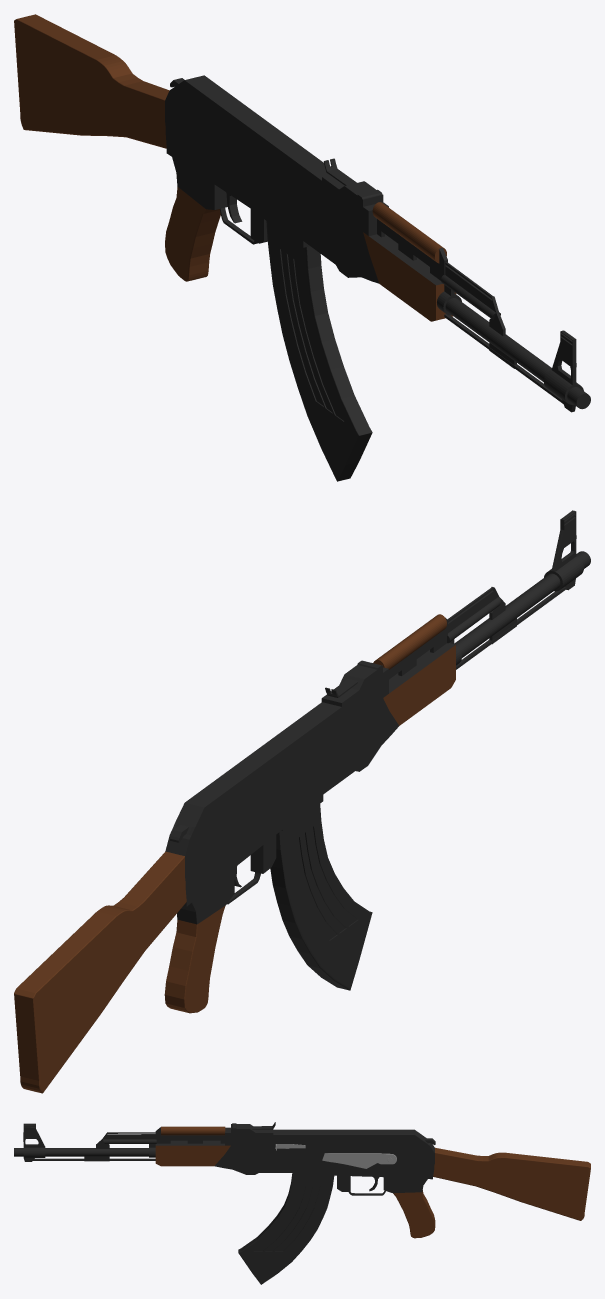
3 views of the same model, one above another, from view 1: azimuth 30°, elevation 25°; view 2: azimuth 150°, elevation 25°; view 3: azimuth 270°, elevation 25° (orthographic). The views are drawn at different scales.
Parts seen in each view (by area): view 1: Cylinder, Cylinder.002, Magazin, Cylinder.001, Cylinder.004, Cylinder.003; view 2: Cylinder, Cylinder.002, Magazin, Cylinder.001, Cylinder.004, Cylinder.003; view 3: Cylinder, Cylinder.002, Magazin, Cylinder.004, Cylinder.001, Cylinder.005, Cylinder.003.
Boxes of the visible parts, bbox=[...] form: Cylinder: bbox=[165, 75, 590, 412]; Cylinder.002: bbox=[14, 14, 169, 148]; Magazin: bbox=[266, 221, 372, 481]; Cylinder.001: bbox=[165, 187, 220, 281]; Cylinder.004: bbox=[363, 232, 456, 321]; Cylinder.003: bbox=[372, 202, 446, 263]; Cylinder: bbox=[165, 510, 590, 924]; Cylinder.002: bbox=[14, 851, 186, 1093]; Magazin: bbox=[270, 804, 372, 990]; Cylinder.001: bbox=[164, 905, 225, 1013]; Cylinder.004: bbox=[383, 645, 455, 725]; Cylinder.003: bbox=[373, 614, 446, 669]; Cylinder: bbox=[14, 1122, 435, 1195]; Cylinder.002: bbox=[433, 1147, 590, 1220]; Magazin: bbox=[238, 1174, 334, 1284]; Cylinder.004: bbox=[155, 1145, 230, 1166]; Cylinder.001: bbox=[393, 1190, 435, 1238]; Cylinder.005: bbox=[322, 1153, 396, 1168]; Cylinder.003: bbox=[161, 1126, 225, 1135].
Size of the model in its own units: 10.93 by 118 by 385.
